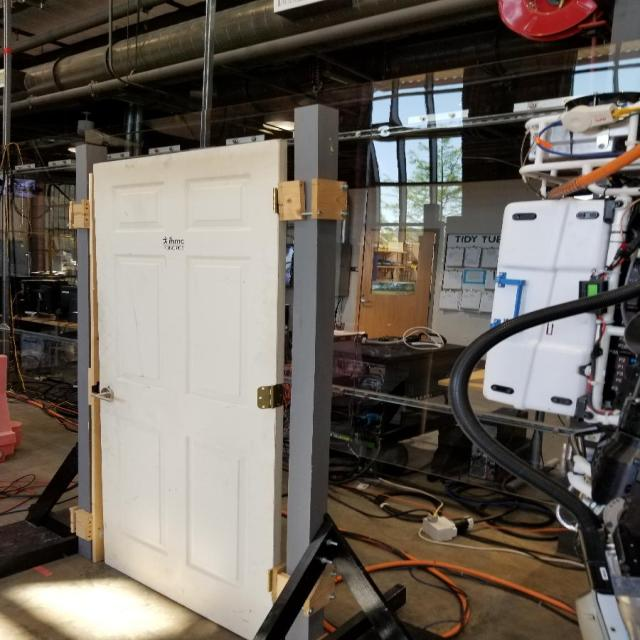doorhandle: (88, 384, 120, 405)
